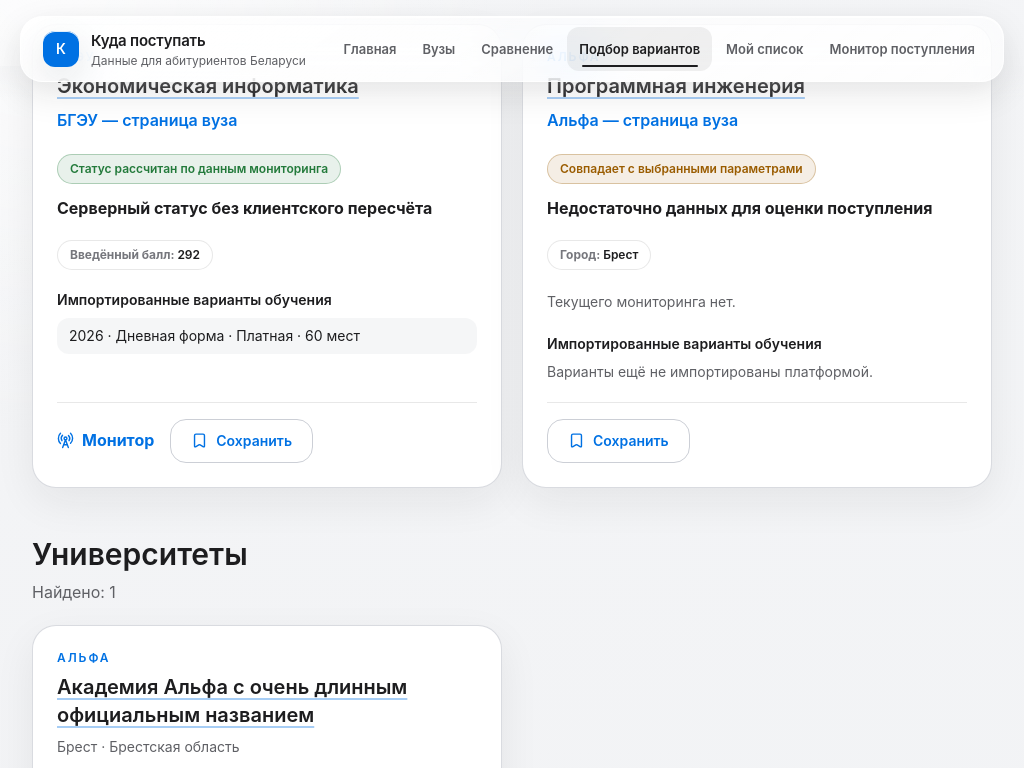
Test case: recommendation result semantics and request states › renders server classes, detail links, offerings, monitor and save controls
(page scrolled)
Check: the text "Серверный статус без клиентского пересчёта" is shown, box left=57, top=196, right=477, bottom=220
Check: the text "Совпадает с выбранными параметрами" is shown, box left=547, top=154, right=816, bottom=184
Click the button with aria-label "Сохранить — Экономическая информатика": (242, 441) left=170, top=419, right=313, bottom=463
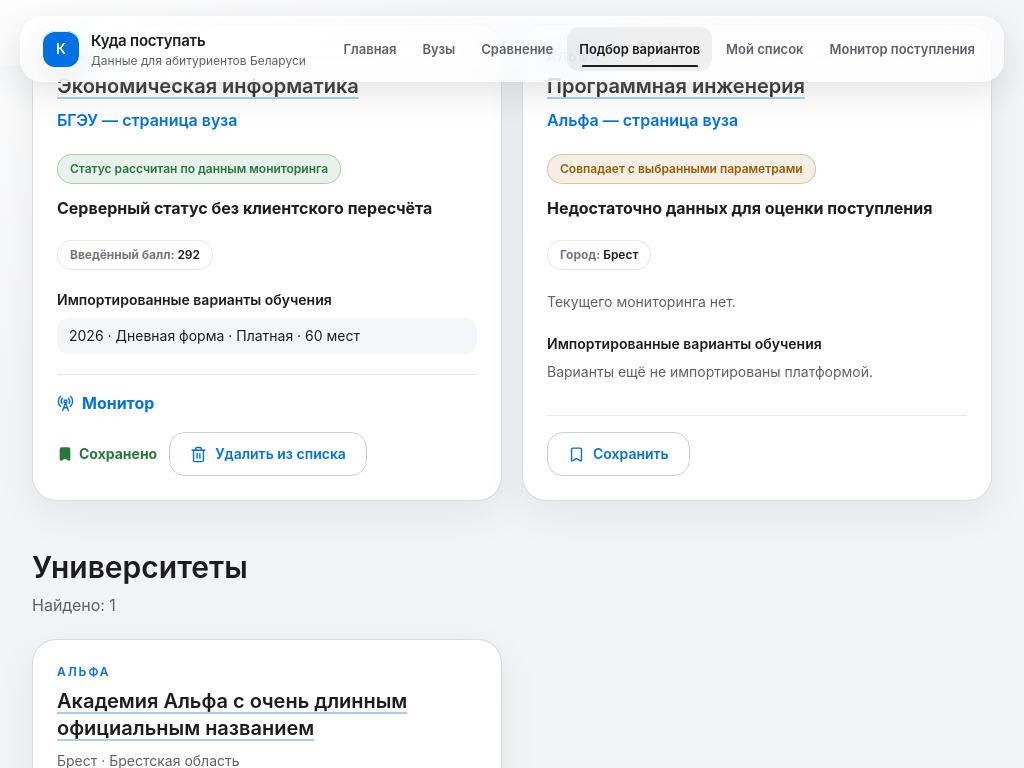
Check: the text "Сохранено" is shown, box left=57, top=444, right=157, bottom=464
